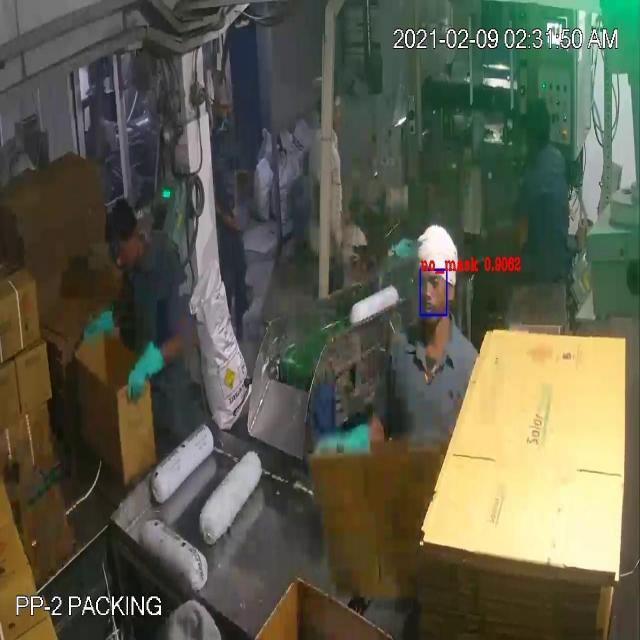Gloves: (39, 60, 338, 450)
